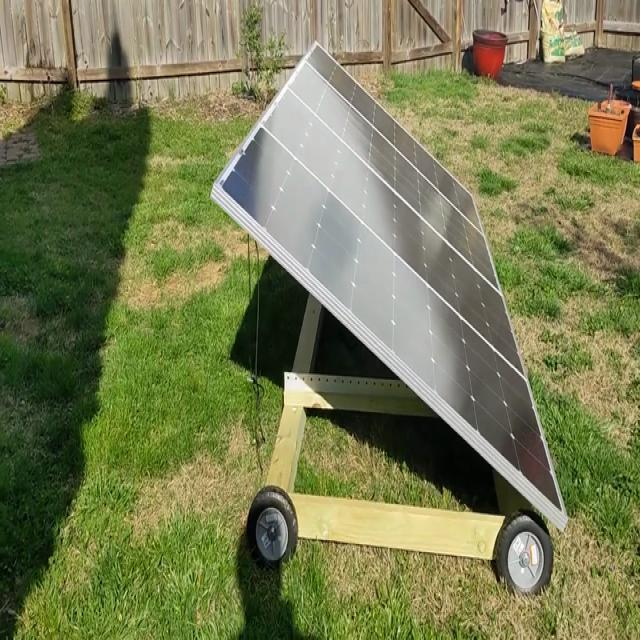Normal Solar Panel: (216, 41, 569, 521)
